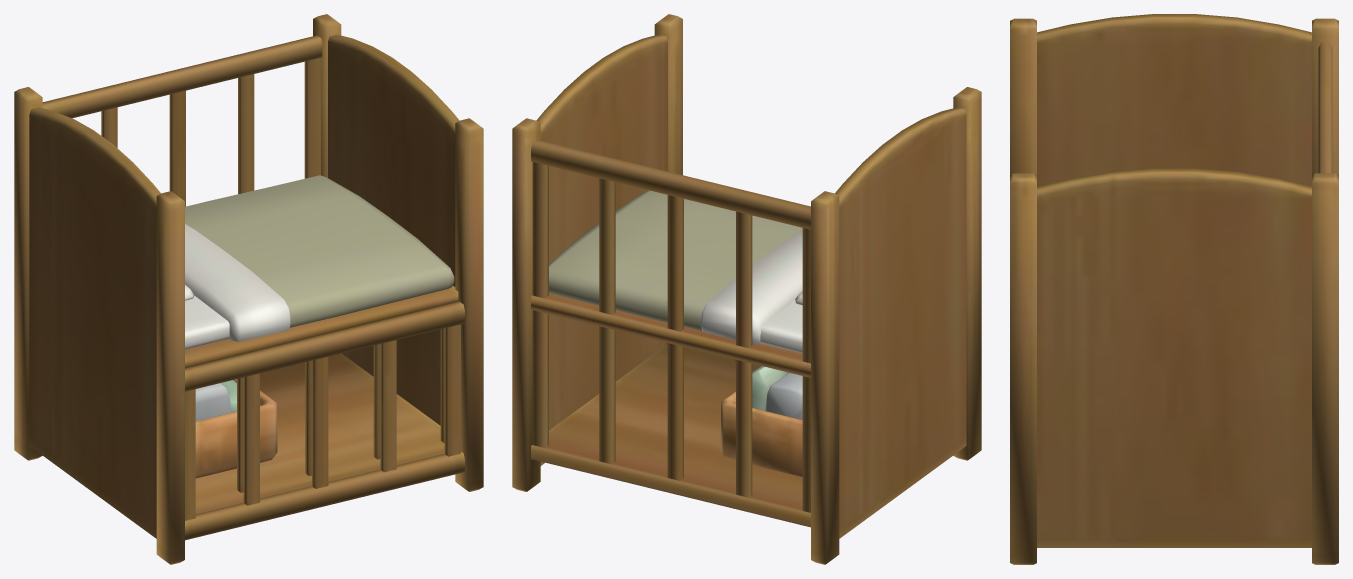
3 views of the same model, side by side, from view 1: azimuth 30°, elevation 25°; view 2: azimuth 150°, elevation 25°; view 3: azimuth 270°, elevation 25° (orthographic). The views are drawn at different scales.
Bounding box in the file's own units: 10 × 11.25 × 8.55.
3 materials, 3 textured.
